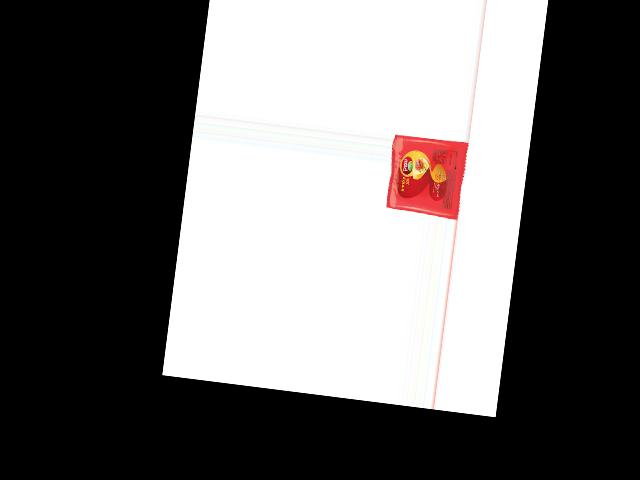cheese: (385, 132, 469, 217)
